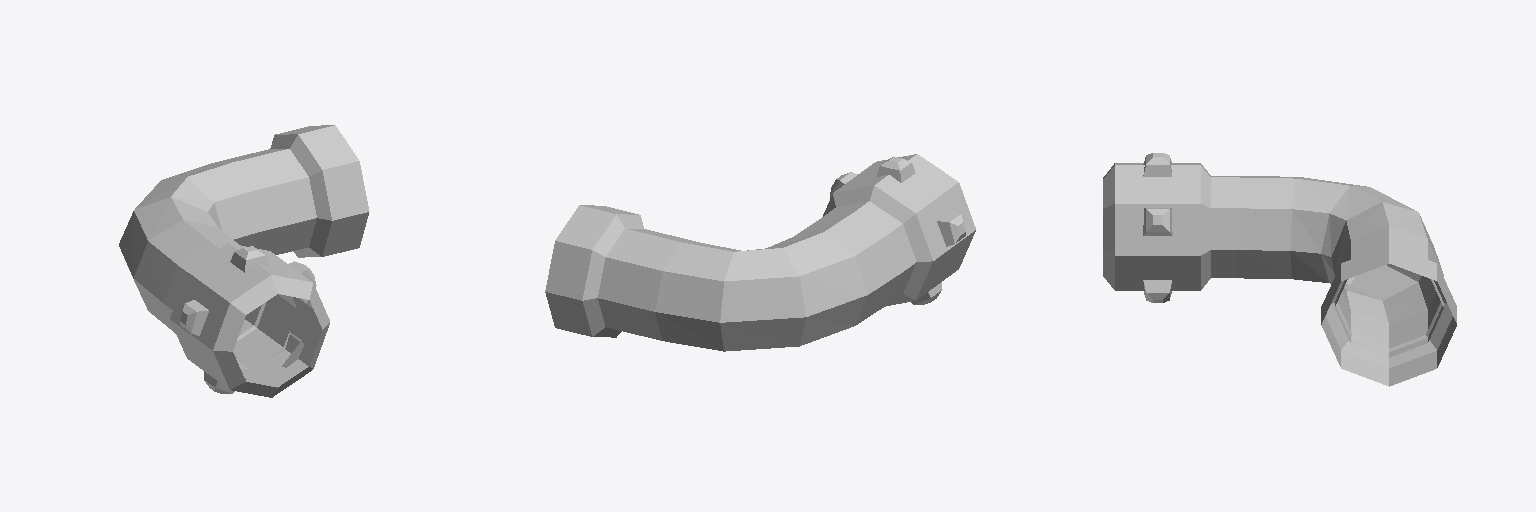
File: PipeCurve.obj
The picture shows the model from 3 angles: view 1: azimuth 30°, elevation 25°; view 2: azimuth 150°, elevation 25°; view 3: azimuth 270°, elevation 25°; orthographic projection.
Parts seen in each view (by area): view 1: PipeCurve; view 2: PipeCurve; view 3: PipeCurve.
Boxes of the visible parts, x1,y1,x2,y2 form: PipeCurve: [119, 125, 369, 397]; PipeCurve: [545, 154, 975, 351]; PipeCurve: [1103, 153, 1456, 386].
Size of the model in its own units: 0.6823 by 0.3307 by 0.7804.